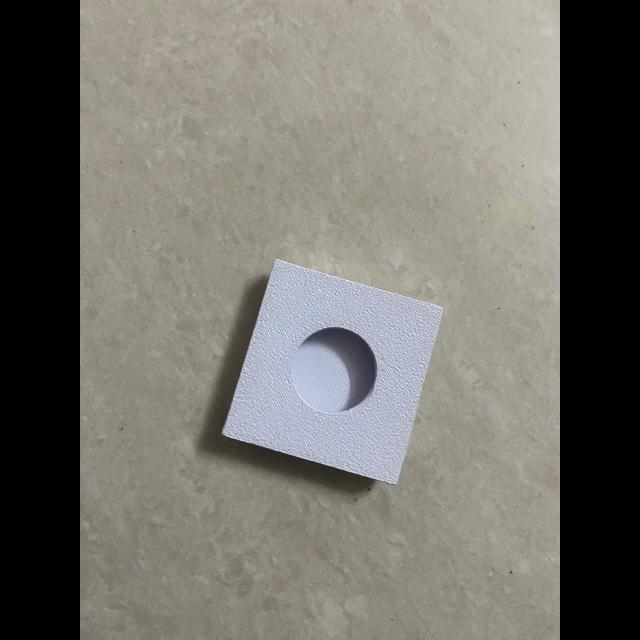RASPBERY PI CAM ENCLOSURE: (222, 259, 444, 485)
